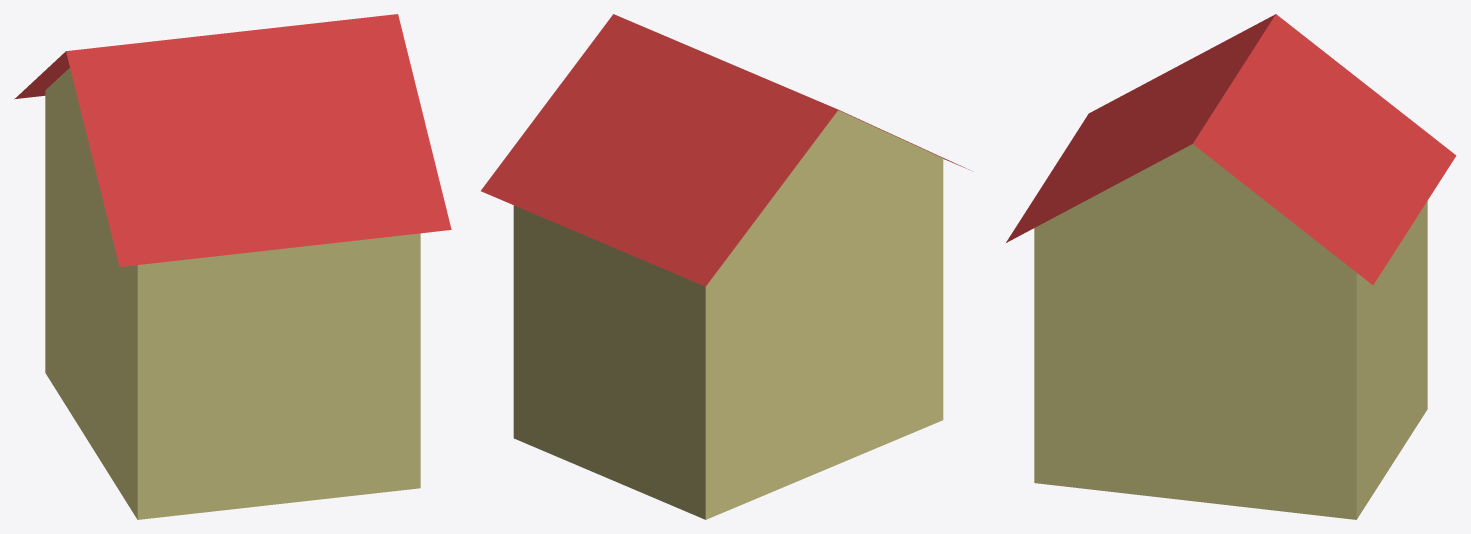
The picture shows the model from 3 angles, left to right: view 1: azimuth 30°, elevation 25°; view 2: azimuth 150°, elevation 25°; view 3: azimuth 270°, elevation 25°; orthographic projection. The views are drawn at different scales.
Size of the model in its own units: 13.01 by 14.42 by 12.96.
